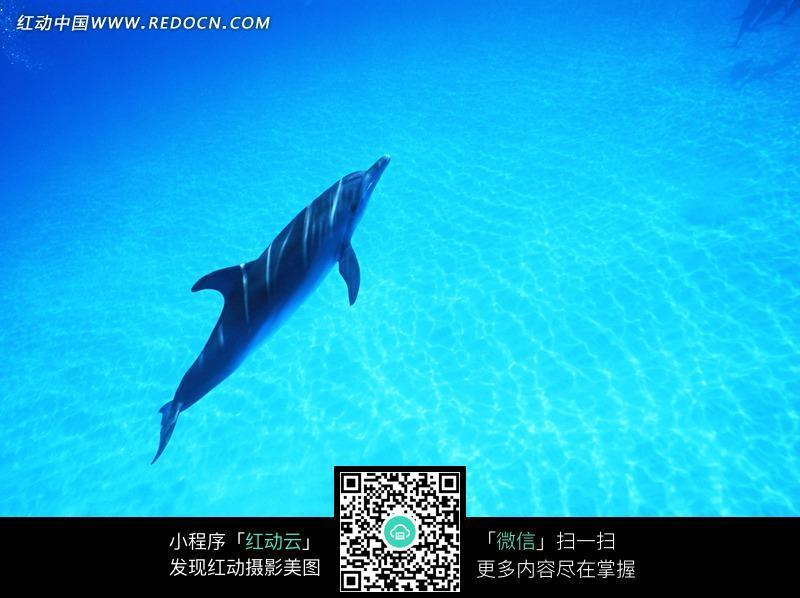fish: (145, 147, 392, 465)
